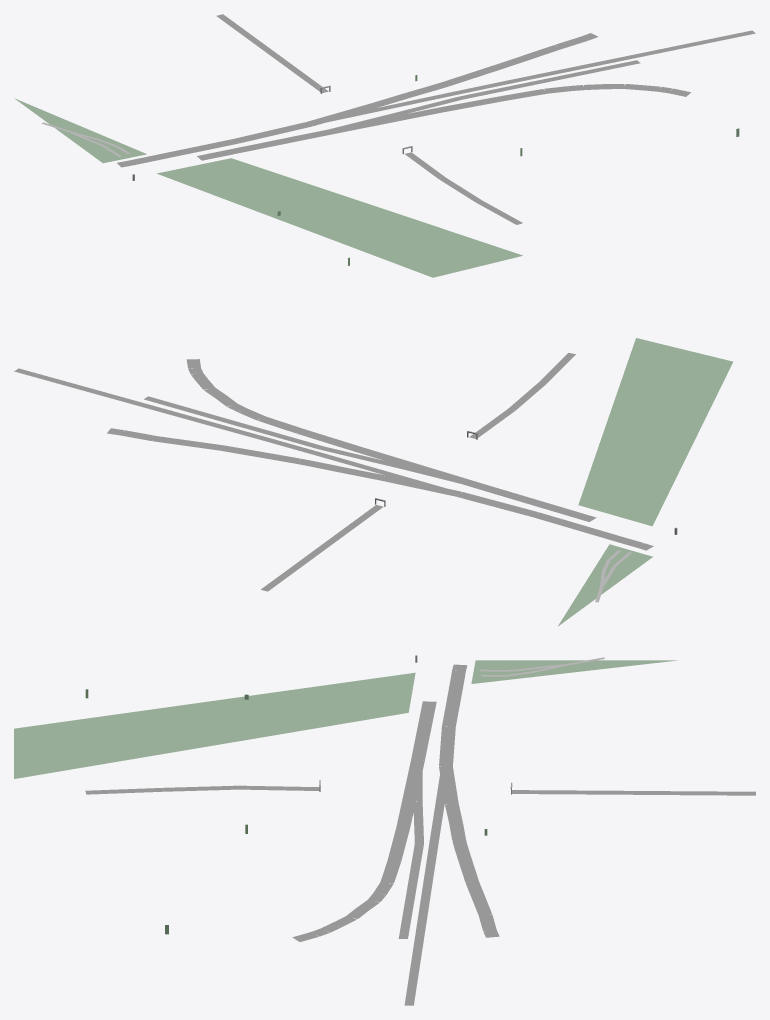
3 renders of one model, top to bottom at view 1: azimuth 30°, elevation 25°; view 2: azimuth 150°, elevation 25°; view 3: azimuth 270°, elevation 25°, orthographic. The views are drawn at different scales.
Bounding box in the file's own units: 622 × 11.18 × 558.
